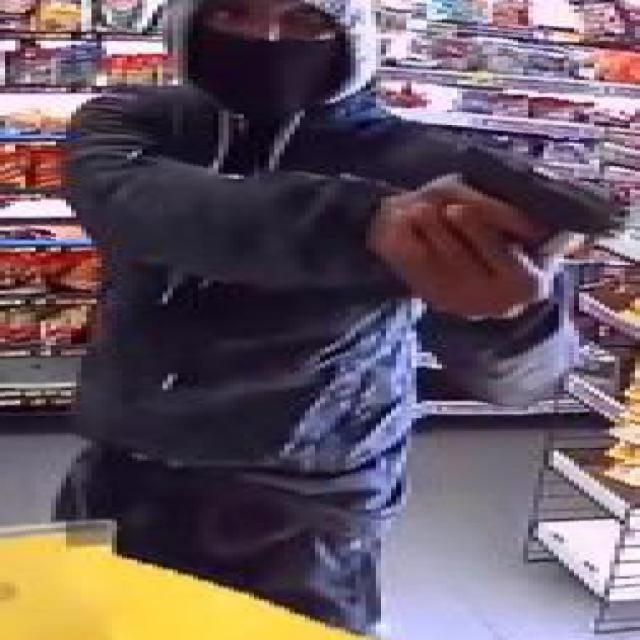weapon: (458, 140, 622, 264)
